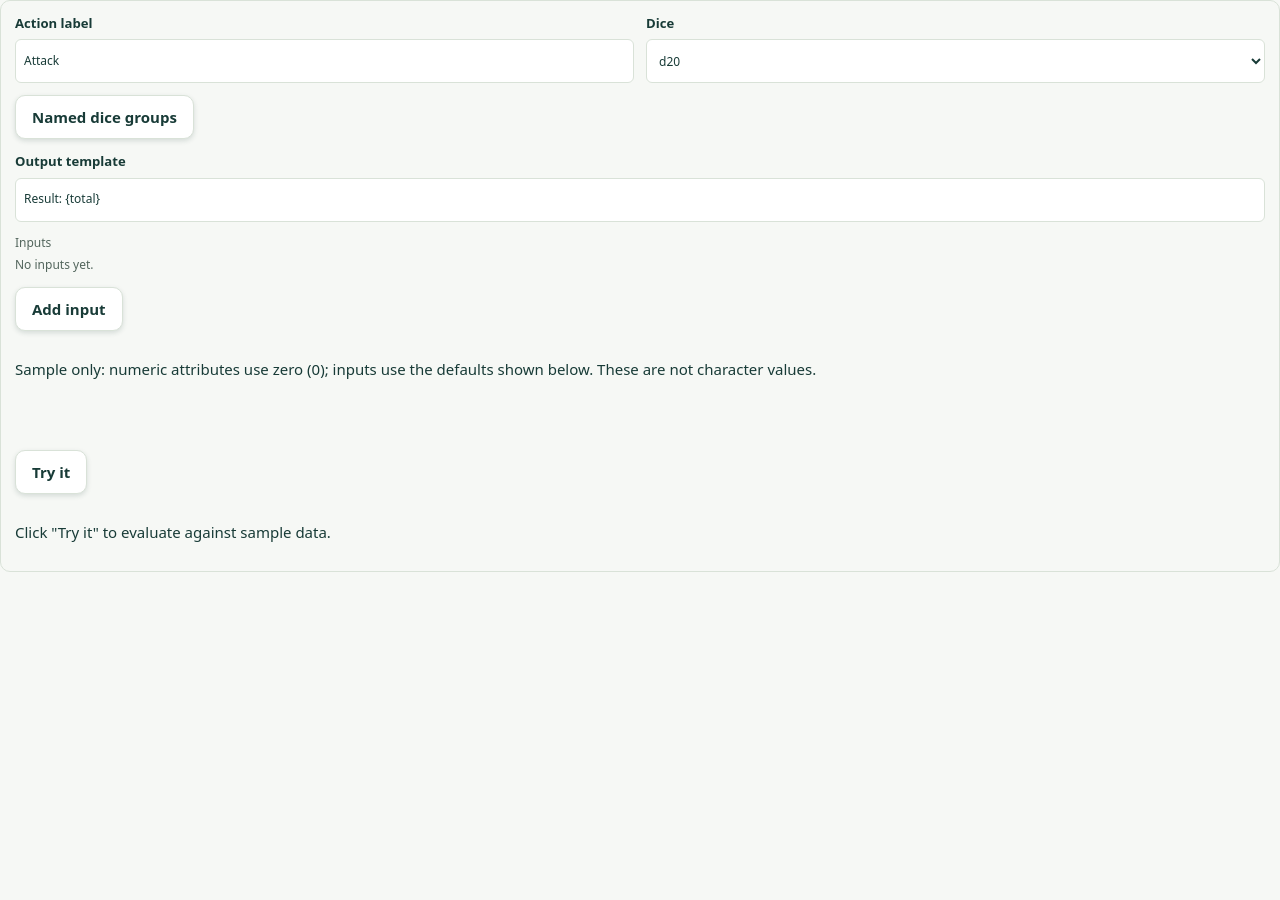
Test: RollActionEditor › selecting a canned kind after custom hides the editor and persists the kind
This screenshot has width=1280, height=900.
Select "Custom (edited in Advanced)" in the dropdown with test id "dice-kind-atk" at (956, 61), box left=646, top=39, right=1265, bottom=83
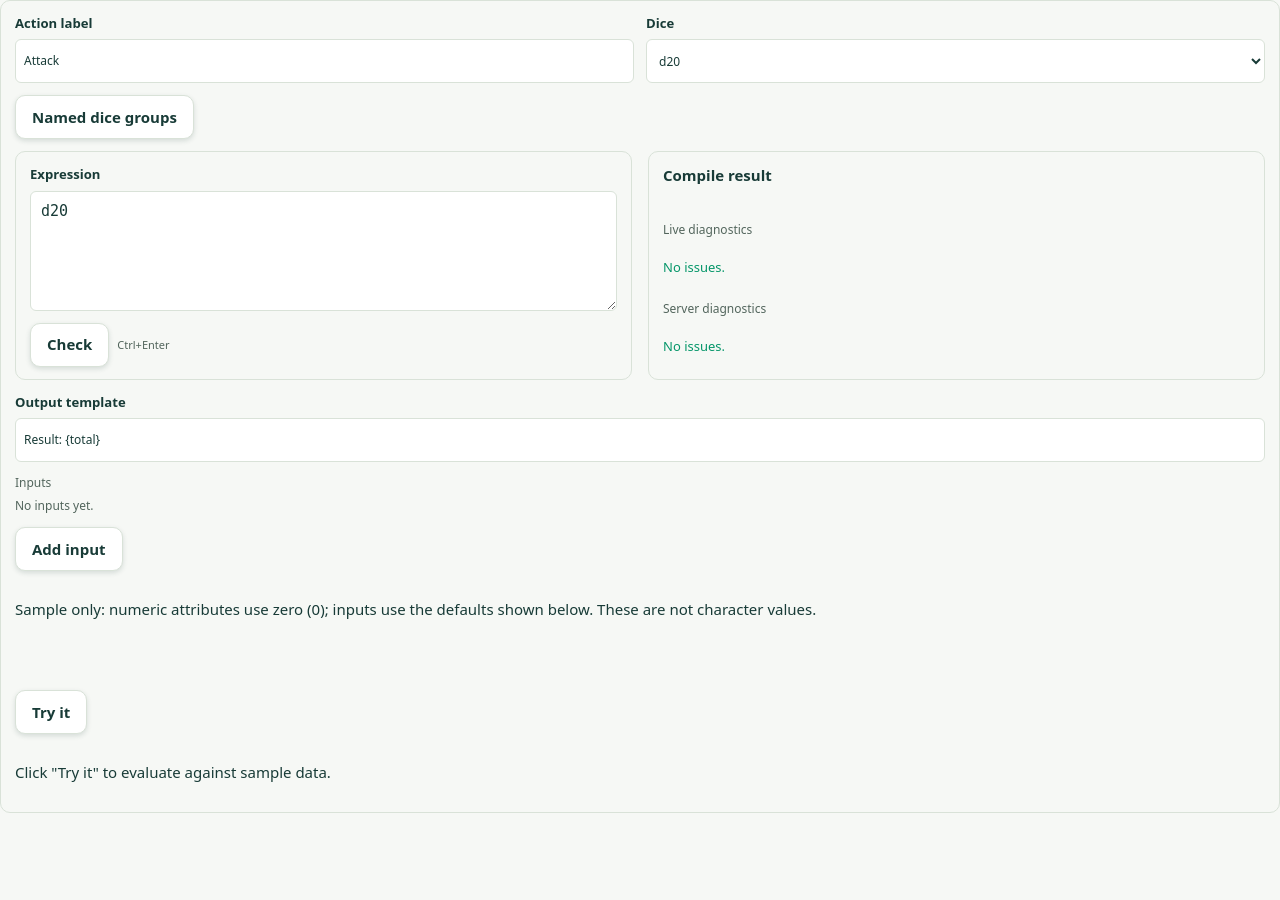
Expected: the text box with test id "expression-editor-source" is shown, left=30, top=191, right=617, bottom=311
Select "d6" in the dropdown with test id "dice-kind-atk" at (956, 61), box left=646, top=39, right=1265, bottom=83
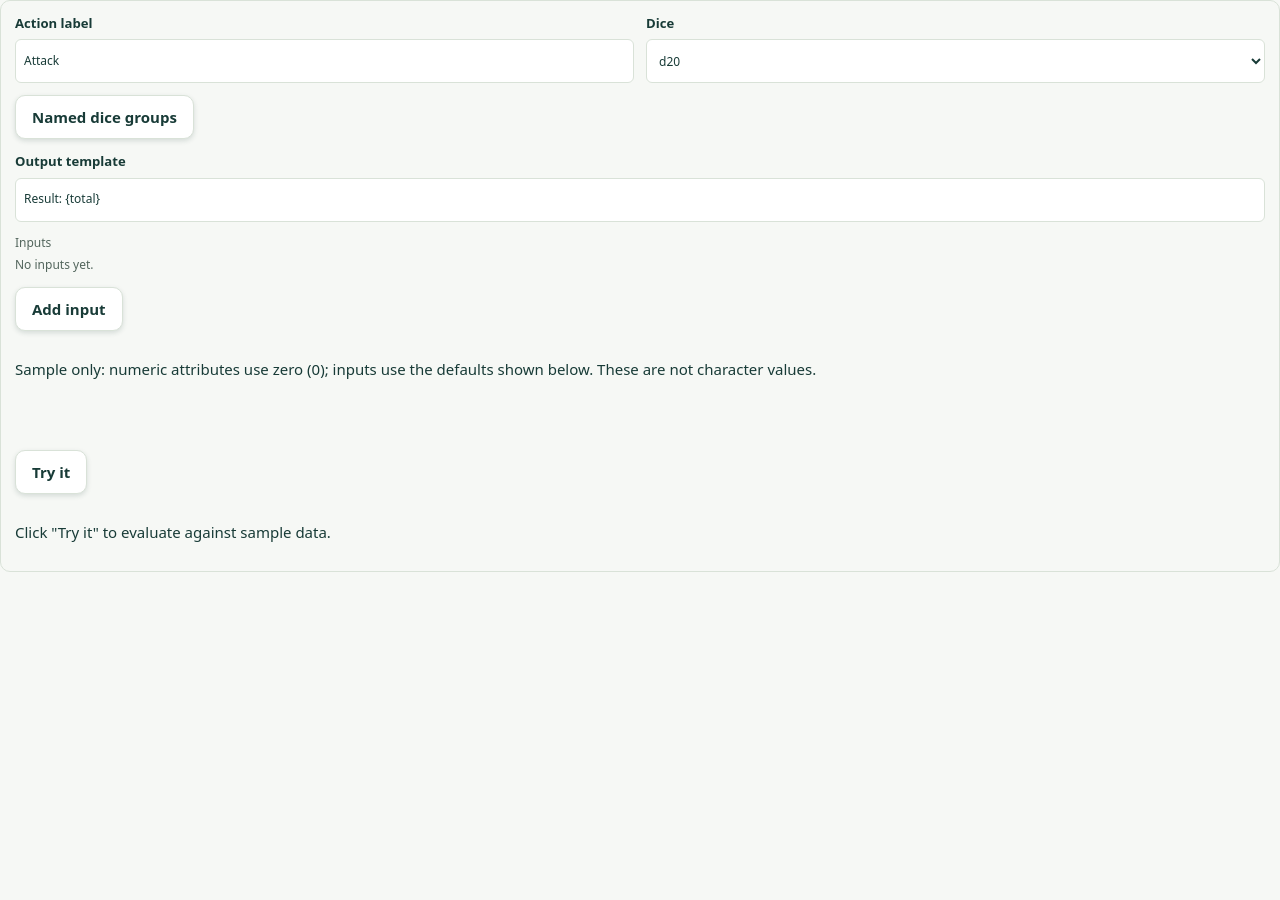
Expected: the text box with test id "expression-editor-source" is gone
